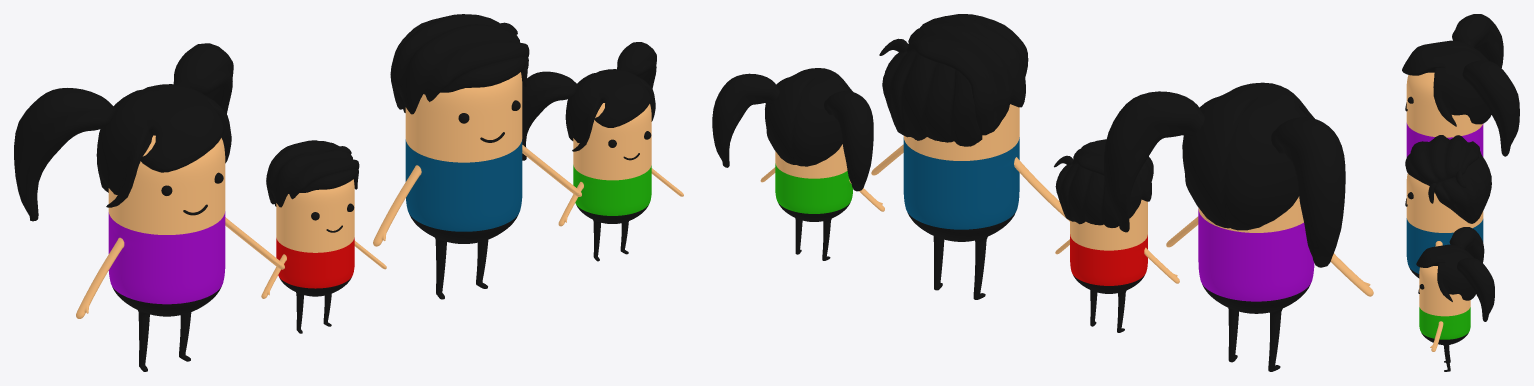
Rendered from vip_21.glb.
3 views of the same model, side by side, from view 1: azimuth 30°, elevation 25°; view 2: azimuth 150°, elevation 25°; view 3: azimuth 270°, elevation 25° (orthographic). The views are drawn at different scales.
Parts seen in each view (by area): view 1: Style001_Woman, Style001_Man, Style001_Girl, Style001_Boy; view 2: Style001_Woman, Style001_Man, Style001_Girl, Style001_Boy; view 3: Style001_Woman, Style001_Man, Style001_Girl.
Part boxes in pixels (x1,y1,x2,y2): Style001_Woman: [14, 43, 284, 371]; Style001_Man: [373, 14, 581, 299]; Style001_Girl: [522, 42, 683, 261]; Style001_Boy: [261, 140, 386, 333]; Style001_Woman: [1104, 82, 1373, 371]; Style001_Man: [871, 14, 1069, 299]; Style001_Girl: [712, 68, 884, 260]; Style001_Boy: [1054, 139, 1179, 332]; Style001_Woman: [1402, 14, 1519, 157]; Style001_Man: [1405, 135, 1491, 278]; Style001_Girl: [1416, 227, 1494, 371].
Bounding box in the file's own units: 6.6 × 2.76 × 1.61.
